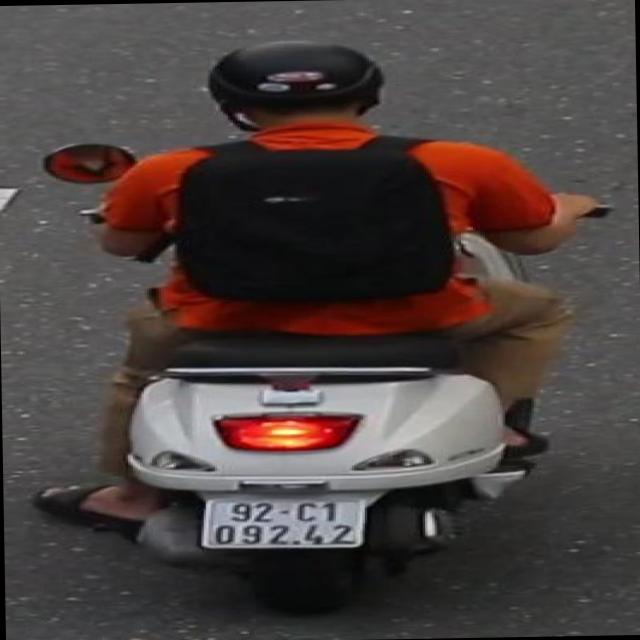LP: (194, 490, 378, 558)
helmet: (198, 33, 398, 144)
